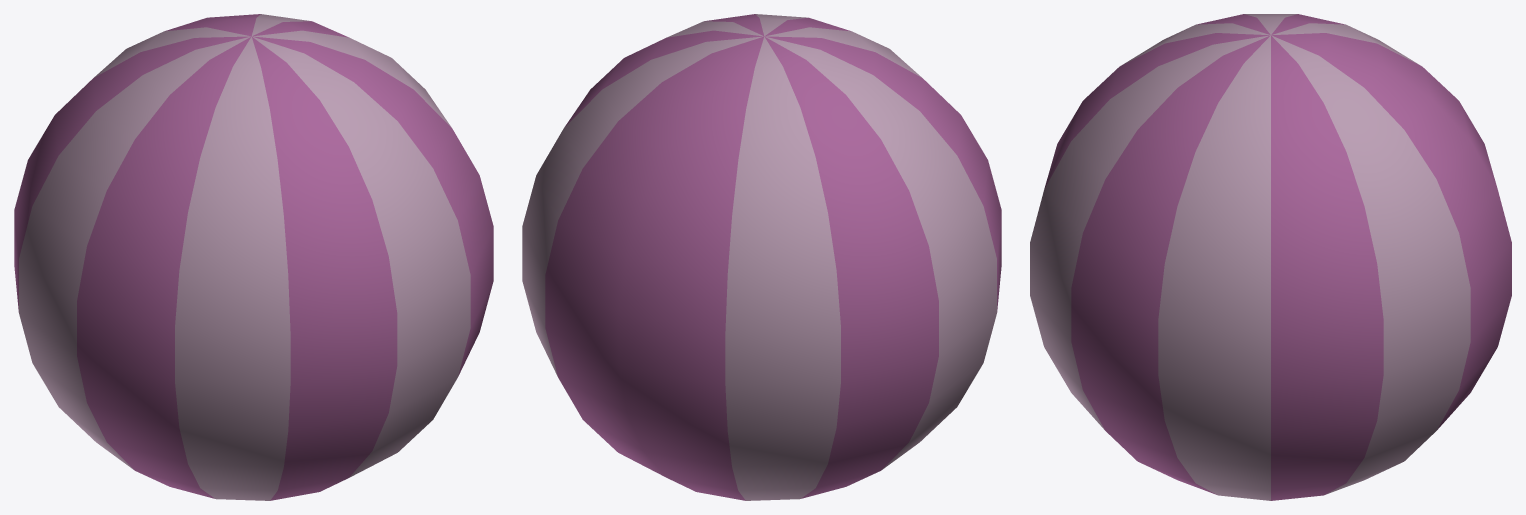
Rendered from Enviro_Ball_001.fbx.
3 views of the same model, side by side, from view 1: azimuth 30°, elevation 25°; view 2: azimuth 150°, elevation 25°; view 3: azimuth 270°, elevation 25° (orthographic).
Parts seen in each view (by area): view 1: Sports_Ball; view 2: Sports_Ball; view 3: Sports_Ball.
Part boxes in pixels (x1=…): Sports_Ball: x1=14, y1=14, x2=493, y2=500; Sports_Ball: x1=522, y1=14, x2=1001, y2=500; Sports_Ball: x1=1030, y1=14, x2=1511, y2=500.
Size of the model in its own units: 8.2 by 8.38 by 8.26.
